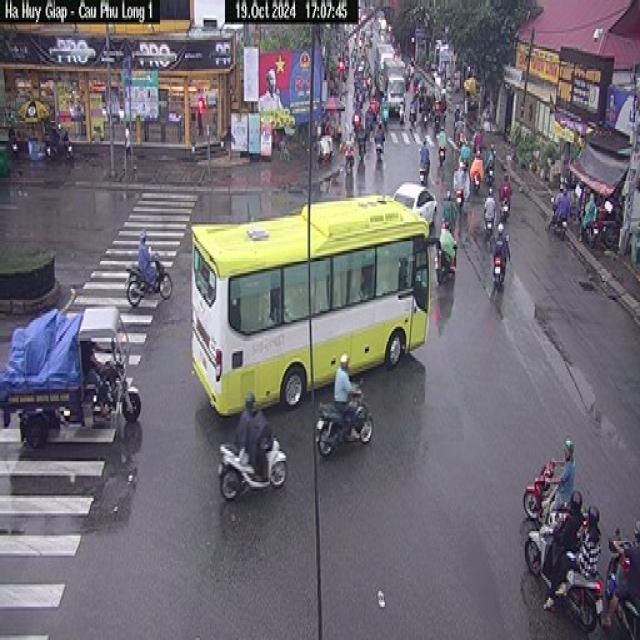bus: (191, 191, 433, 418)
motorcycle: (215, 442, 291, 504), (313, 405, 377, 458), (122, 260, 176, 310)
person: (240, 387, 271, 469), (334, 350, 359, 412), (559, 436, 579, 500), (135, 224, 153, 269)
